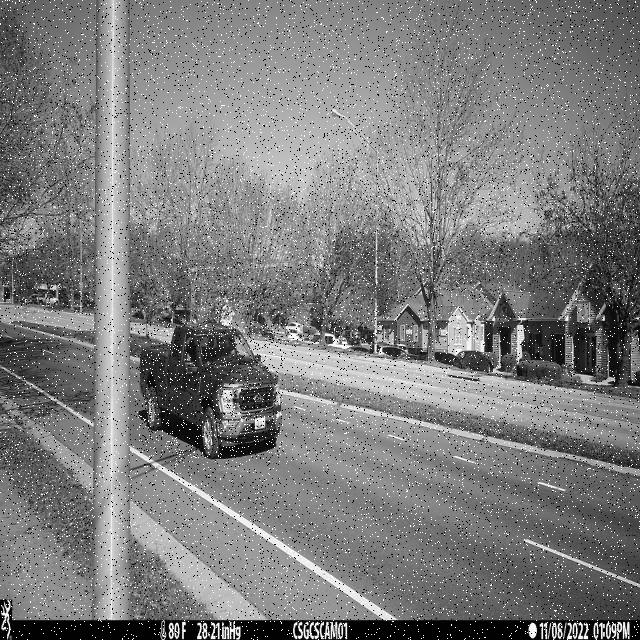Pickup: (139, 322, 283, 459)
